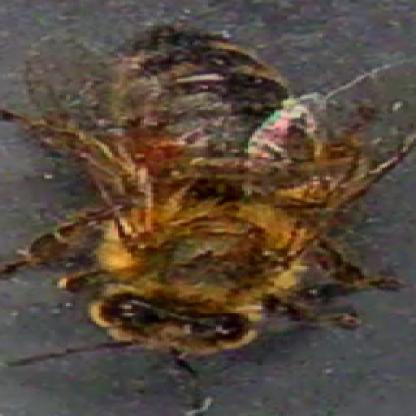bee: (79, 24, 314, 354), (131, 133, 174, 167)
